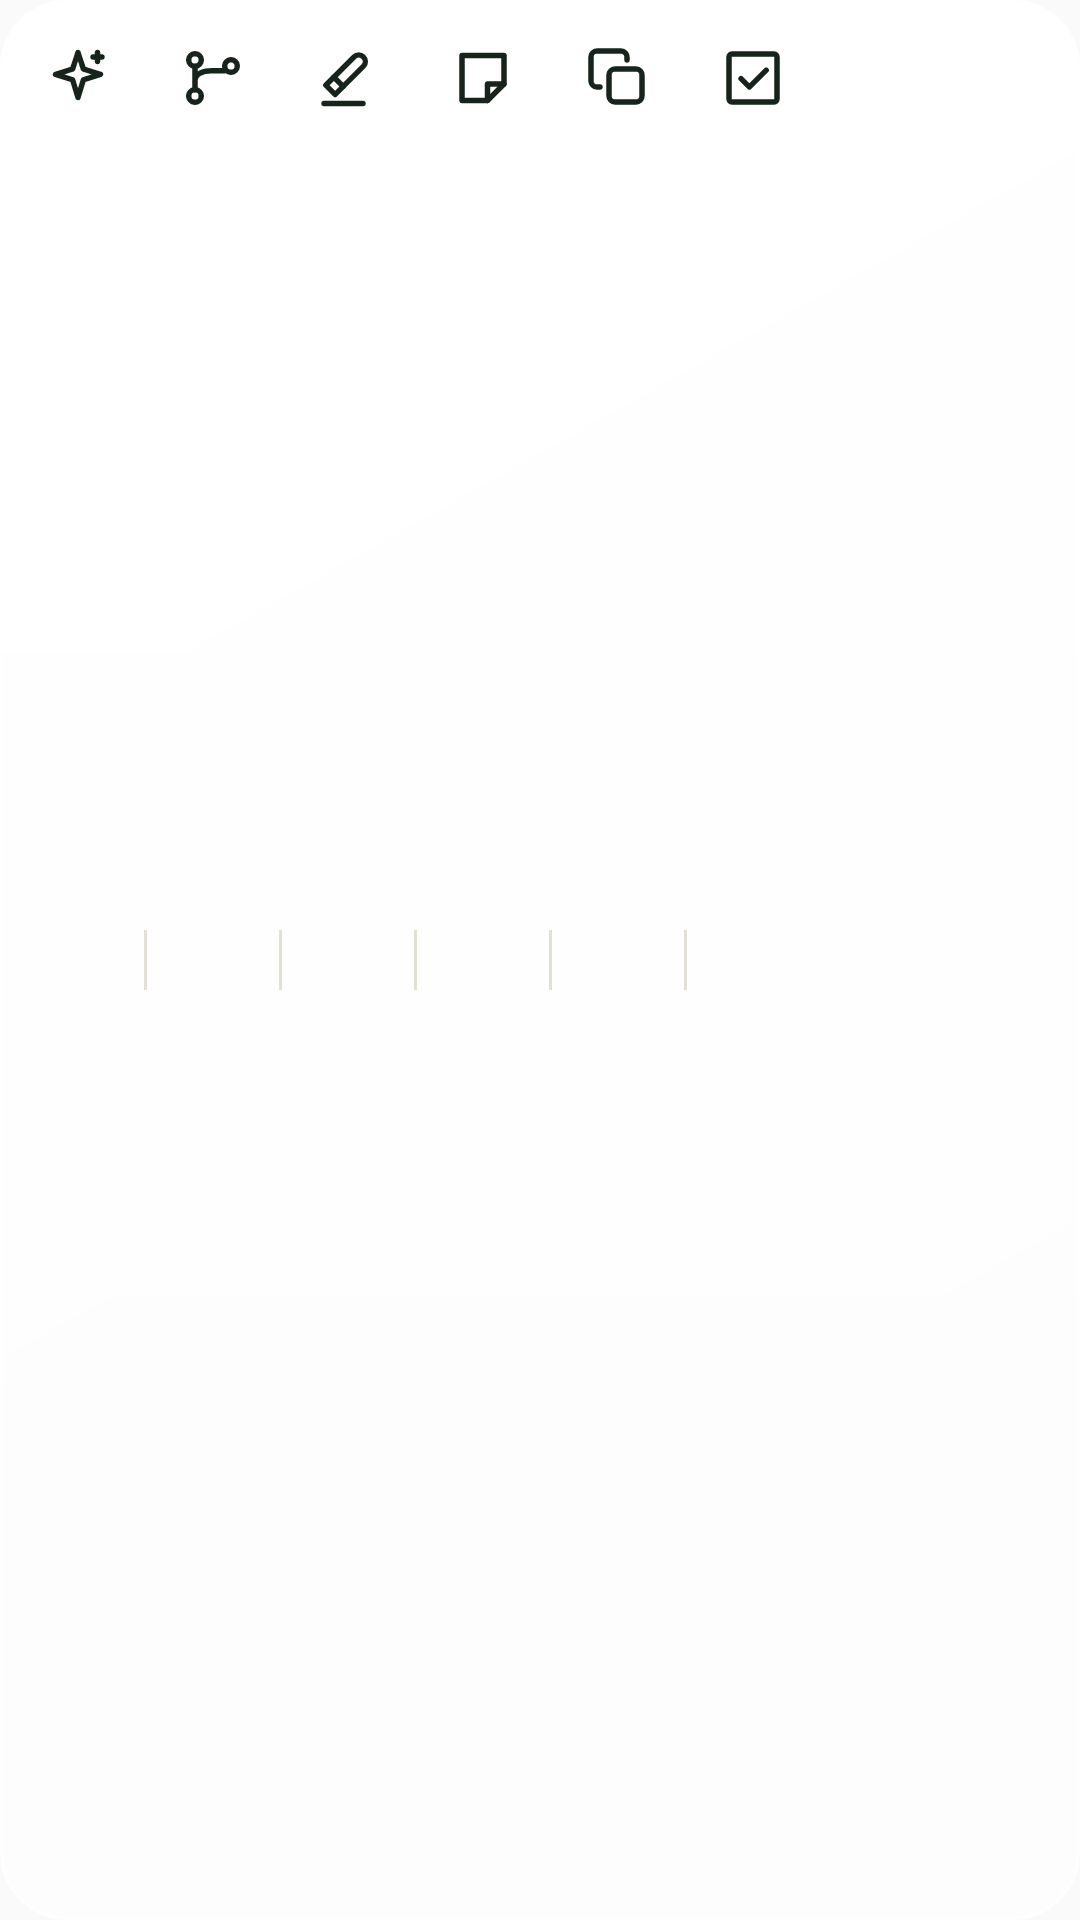

Point at icon controls on the screen. Image size 1080w x 1920h, points as (x=x, y=y).
fork: (x=213, y=78)
highlight: (x=344, y=79)
note: (x=483, y=78)
select all: (x=753, y=78)
sparkle: (x=78, y=75)
